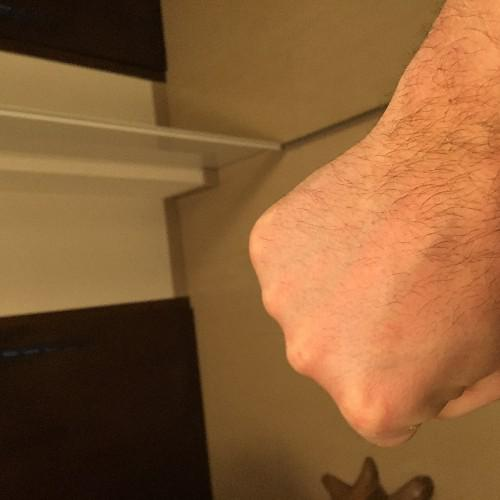rock: (236, 110, 500, 459)
